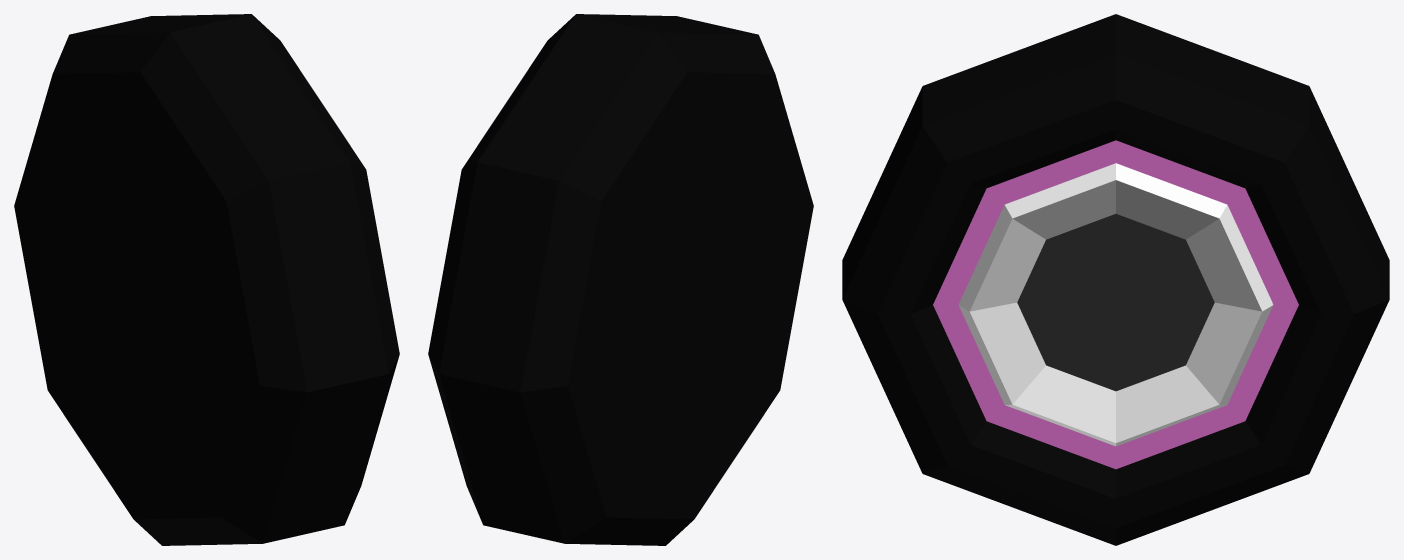
Rendered from Tire.fbx.
3 renders of one model, left to right at view 1: azimuth 30°, elevation 25°; view 2: azimuth 150°, elevation 25°; view 3: azimuth 270°, elevation 25°, orthographic. The views are drawn at different scales.
Parts seen in each view (by area): view 1: RightTire; view 2: RightTire; view 3: RightTire.
Part boxes in pixels (x1,y1,x2,y2): RightTire: (14, 14, 399, 545); RightTire: (428, 14, 813, 545); RightTire: (842, 14, 1389, 545).
Size of the model in its own units: 23.97 by 79.98 by 79.78.
